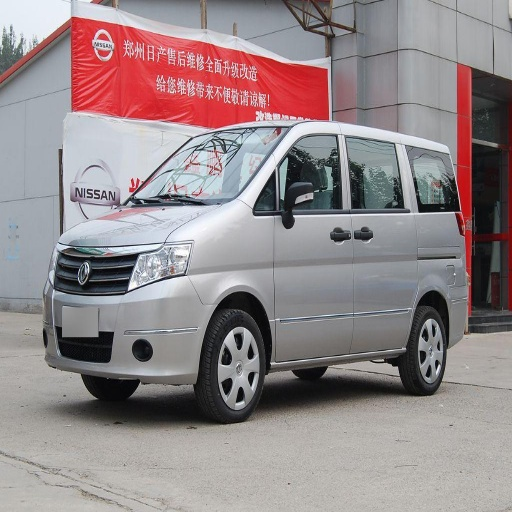front_bumper: (45, 243, 216, 383)
front_glass: (129, 129, 283, 205)
front_left_door: (255, 127, 356, 358)
trunk: (412, 223, 470, 325)
